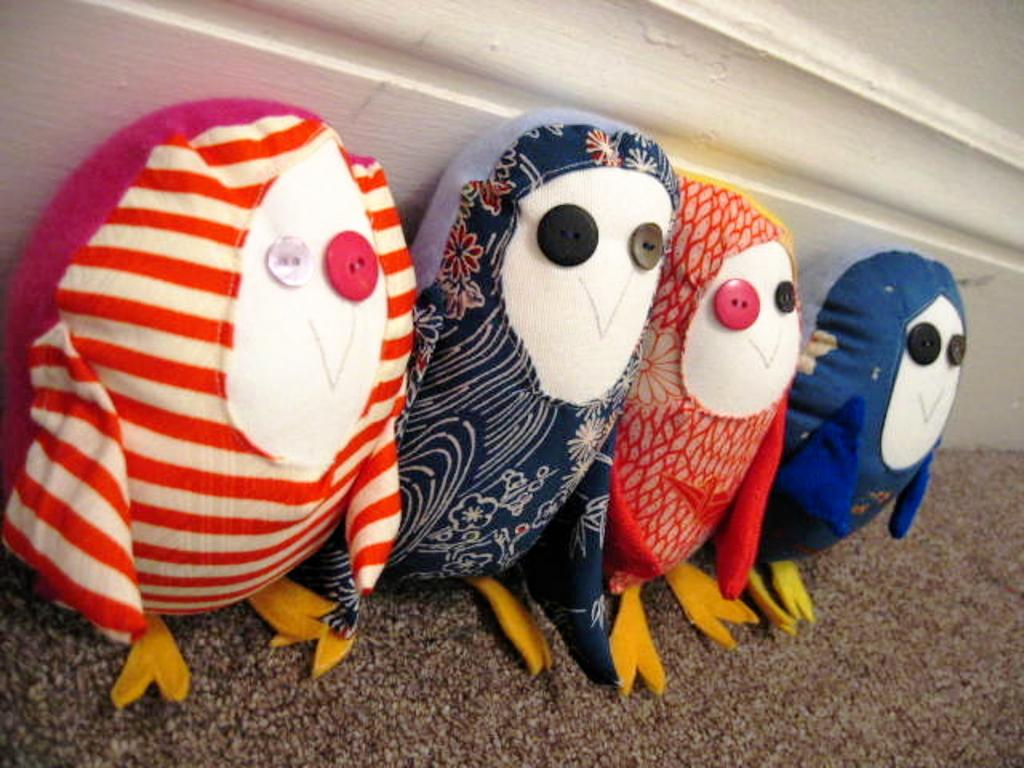Owl: (5, 99, 400, 712), (309, 111, 683, 690), (610, 171, 790, 693), (764, 251, 962, 619)
